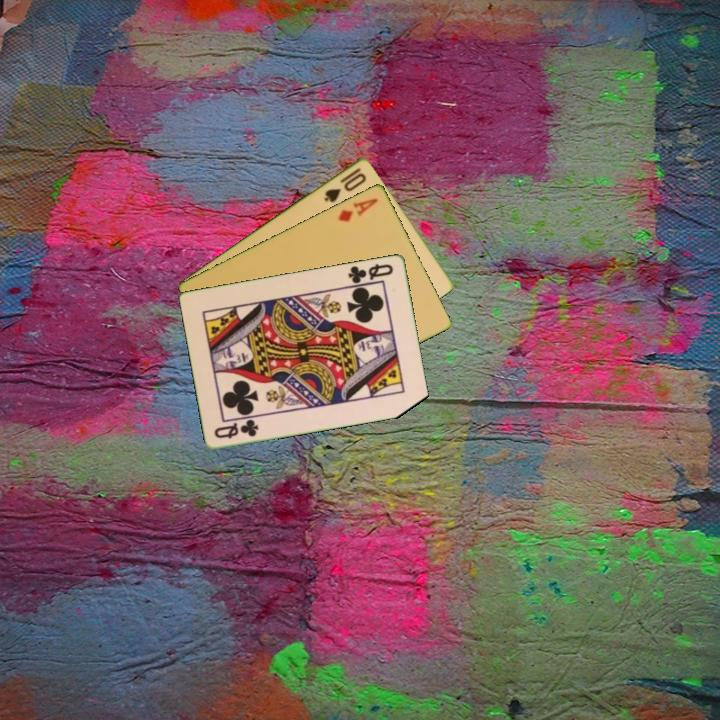10s: (321, 164, 369, 205)
Ad: (334, 194, 381, 225)
Qc: (345, 260, 396, 286), (211, 416, 262, 441)
